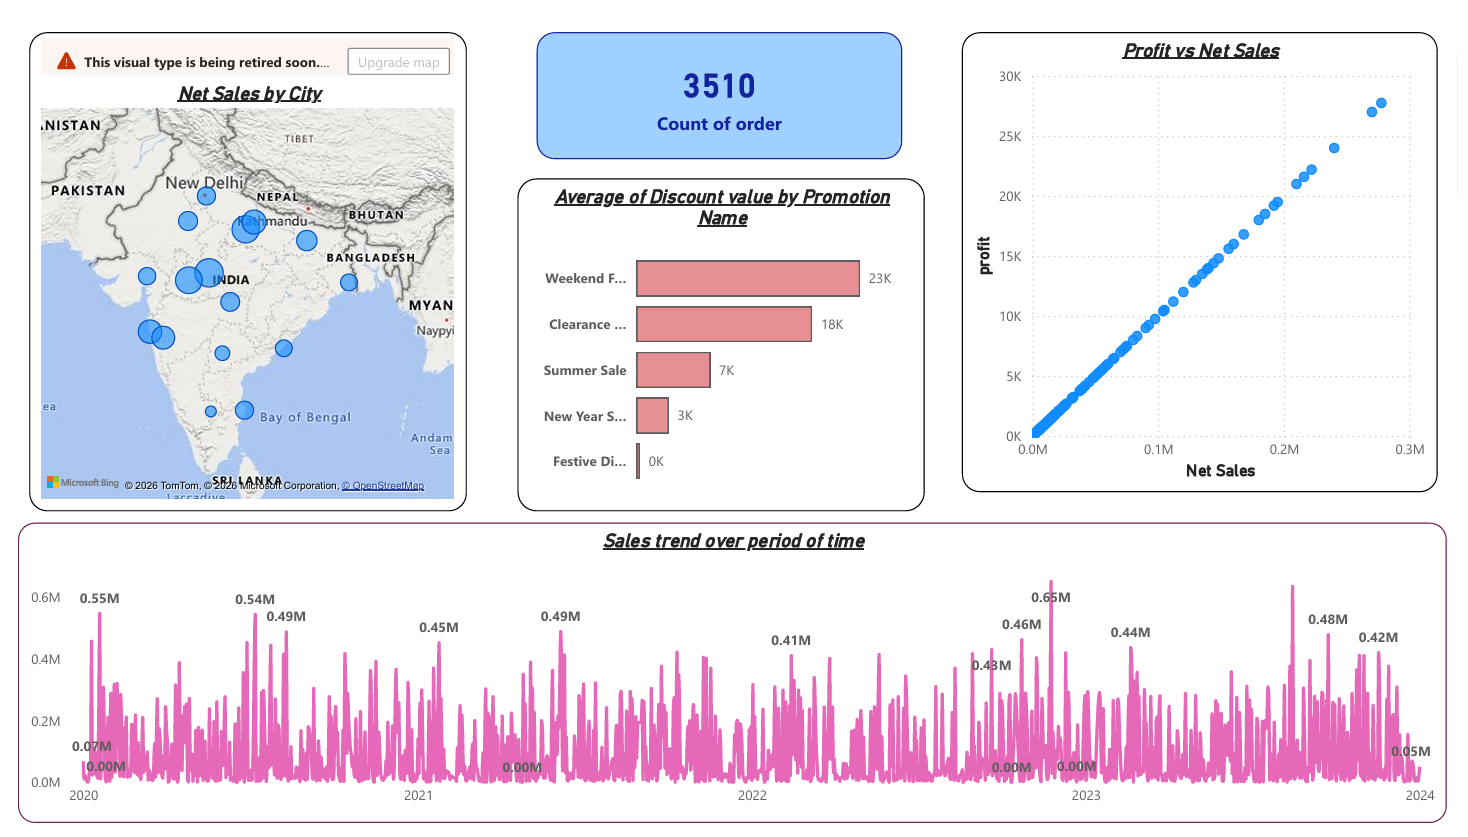

The dashboard page shown, as its layout file describes it:
{"tool":"powerbi","page":{"name":"req2","canvas":[1280,720],"ordinal":1},"visuals":[{"type":"lineChart","title":"Sales trend over period of time","fields":{"Y":["Sum(Fact table.Net Sales  )"],"Category":["Fact table.Date (dd/mm/yyyy).Variation.Date Hierarchy.Year"]},"box":[0,452.9,1270,267.1],"z":0},{"type":"scatterChart","title":"Profit vs Net Sales","fields":{"X":["Fact table.Net Sales  "],"Y":["Fact table.profit "]},"box":[839,17,423,409],"z":1000},{"type":"barChart","fields":{"Category":["Dim Promotion.Promotion Name"],"Y":["Avg(Fact table.Discount value  )"]},"box":[444.3,147.1,361.4,295.7],"z":2000},{"type":"map","title":"Net Sales by City","fields":{"Category":["Dim Customers.City"],"Size":["Sum(Fact table.Net Sales  )"]},"box":[10,17,389,426],"z":3000},{"type":"card","fields":{"Values":["Count(Fact table.order id)"]},"box":[461.4,17.1,324.3,112.9],"z":4000}]}

Visuals, with their boxes in screenshot pixels (x1, y1, x2, y2), scaled from the page's 1280x720 canvas onto the 1468x837 screenshot:
"Sales trend over period of time" lineChart: [left=0, top=526, right=1457, bottom=836]
"Profit vs Net Sales" scatterChart: [left=962, top=20, right=1447, bottom=495]
barChart - Dim Promotion.Promotion Name x Avg(Fact table.Discount value  ): [left=510, top=171, right=924, bottom=515]
"Net Sales by City" map: [left=11, top=20, right=458, bottom=515]
card - Count(Fact table.order id): [left=529, top=20, right=901, bottom=151]
